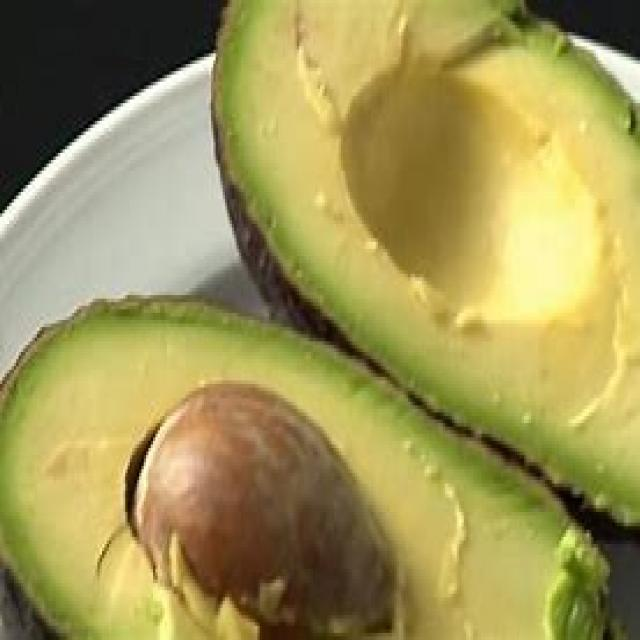Avocado: (204, 0, 640, 526), (0, 281, 624, 640)
